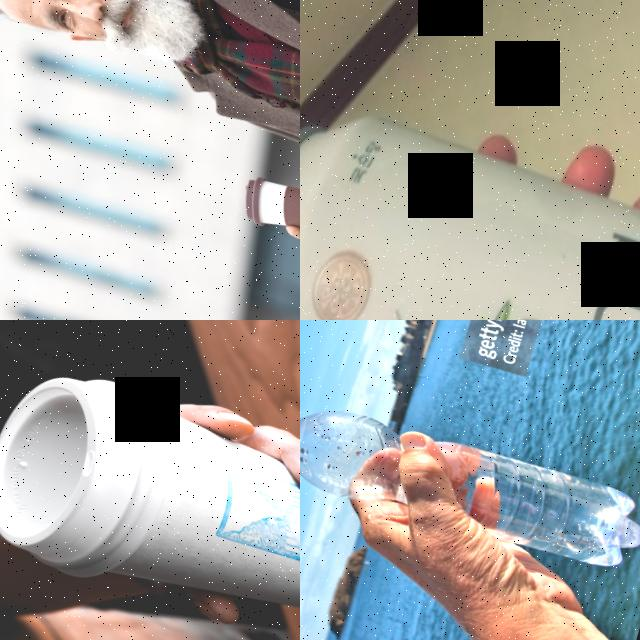bottle: (300, 382, 640, 581)
can: (300, 90, 640, 320)
cup: (0, 352, 300, 640), (235, 168, 300, 250)
